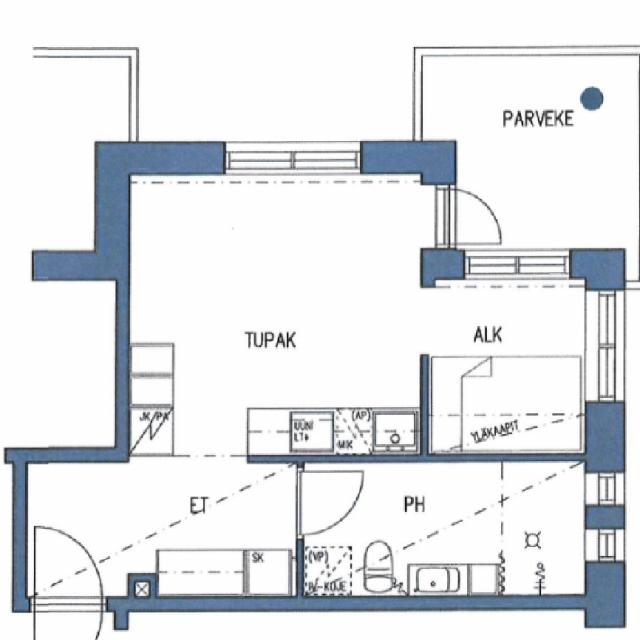door: (34, 525, 102, 609), (435, 188, 509, 245), (296, 472, 364, 534), (34, 597, 102, 640)
